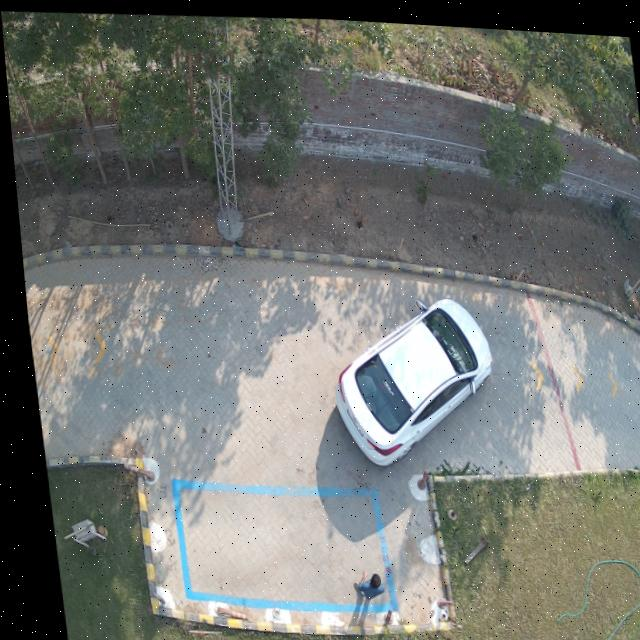car: (332, 295, 488, 462)
